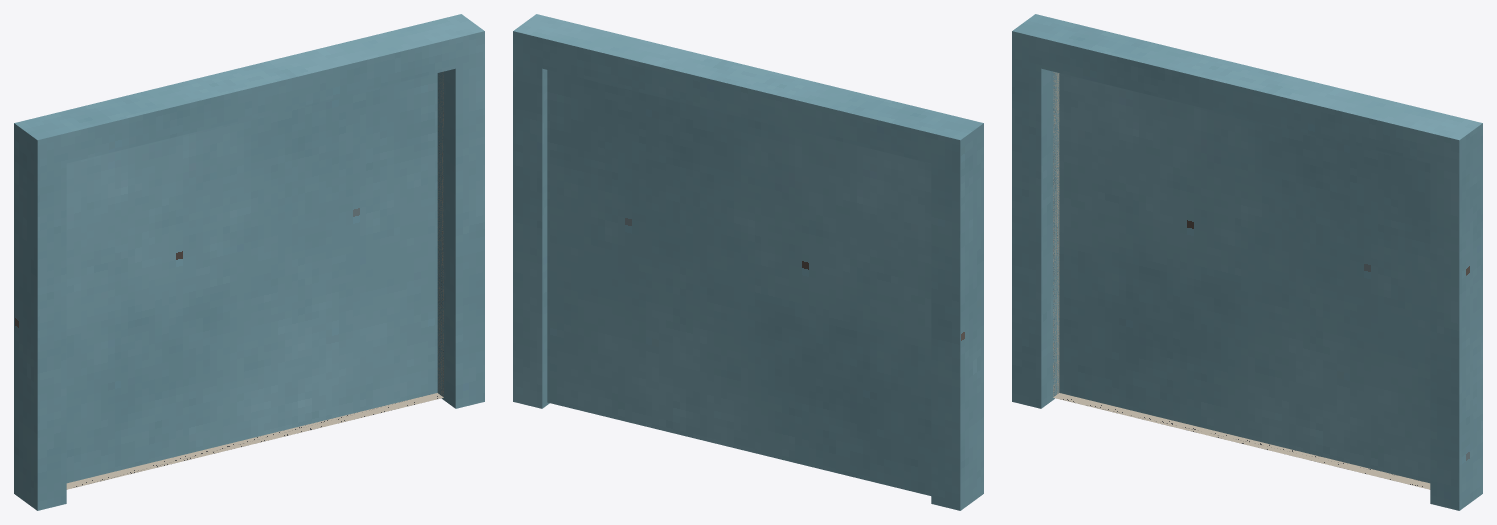
The model's file is gate.glb.
3 views of the same model, side by side, from view 1: azimuth 30°, elevation 25°; view 2: azimuth 150°, elevation 25°; view 3: azimuth 330°, elevation 25° (orthographic).
Visible parts, largest first — view 1: sm_gate-col; view 2: sm_gate-col; view 3: sm_gate-col.
Part boxes in pixels (x1=…): sm_gate-col: x1=14, y1=14, x2=484, y2=510; sm_gate-col: x1=513, y1=14, x2=983, y2=510; sm_gate-col: x1=1012, y1=14, x2=1482, y2=510.
Bounding box in the file's own units: 3.54 × 2.8 × 0.32.
1 material, 1 textured.
